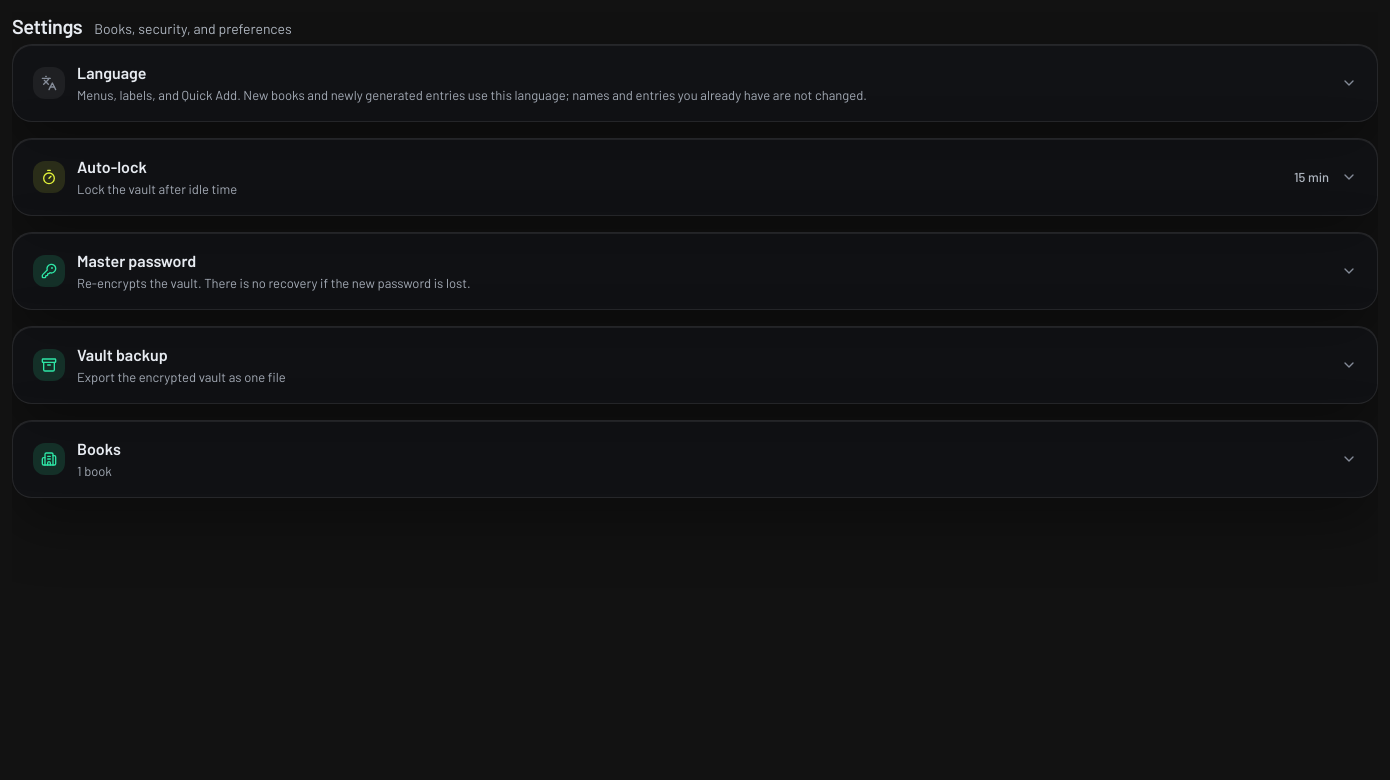
Test: SettingsPage archived books › Restore un-archives the book, makes it current and reloads both lists
The width and height of the screenshot is (1390, 780).
What coordinates should you click on to do the following:
click the button "Books 1 book"
I would click on:
 (49, 459)
Its box is [13, 421, 1377, 497].
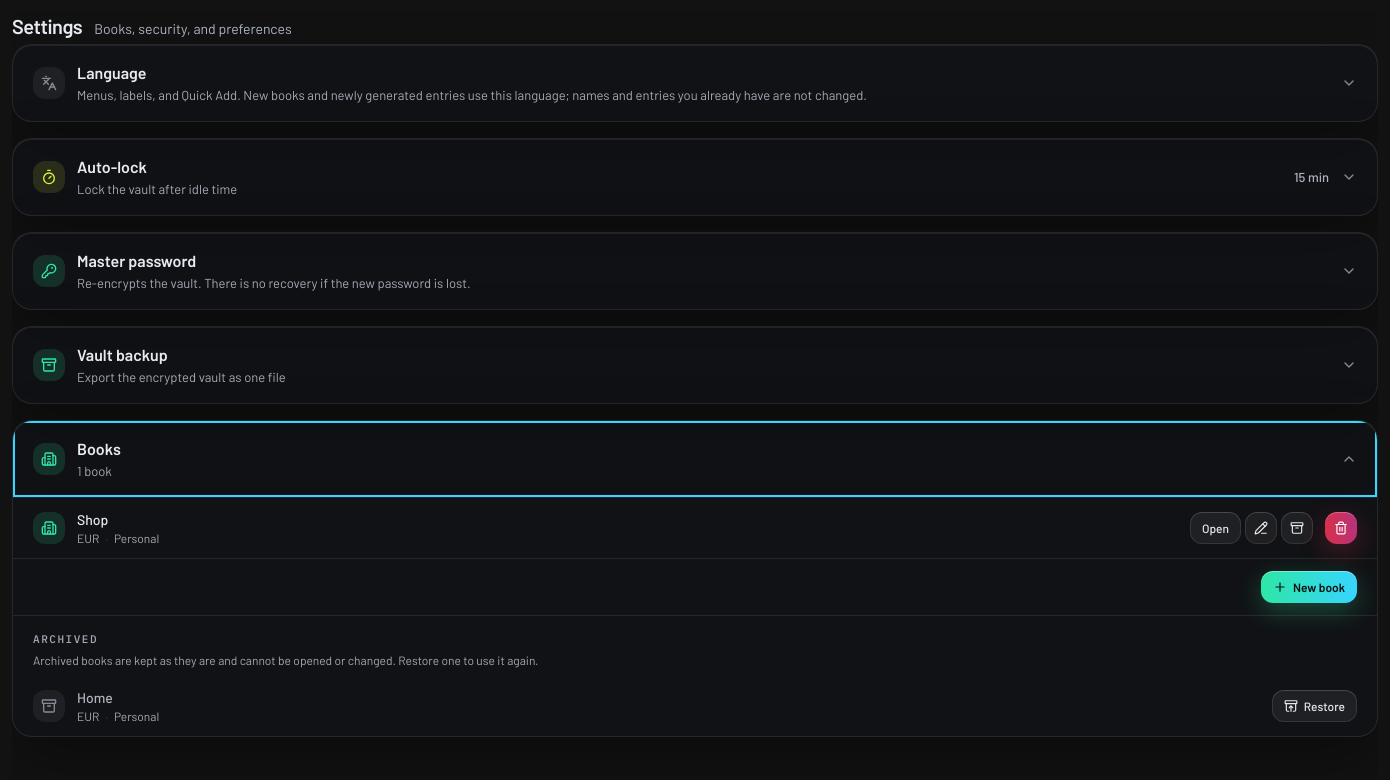
What coordinates should you click on to do the following:
click the button with aria-label "Restore Home"
I would click on:
 (1314, 706)
Its box is [1272, 690, 1357, 722].
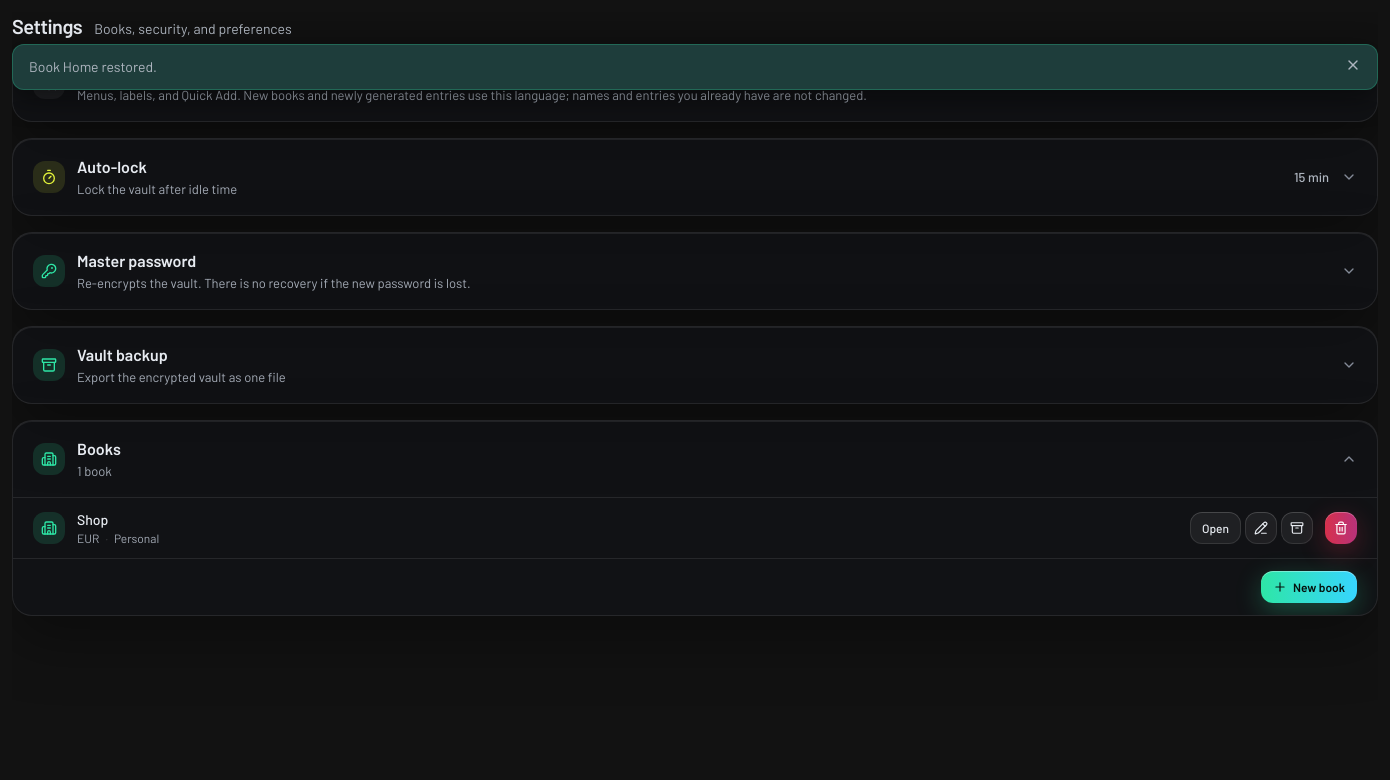
Result: the heading "Archived" is gone
